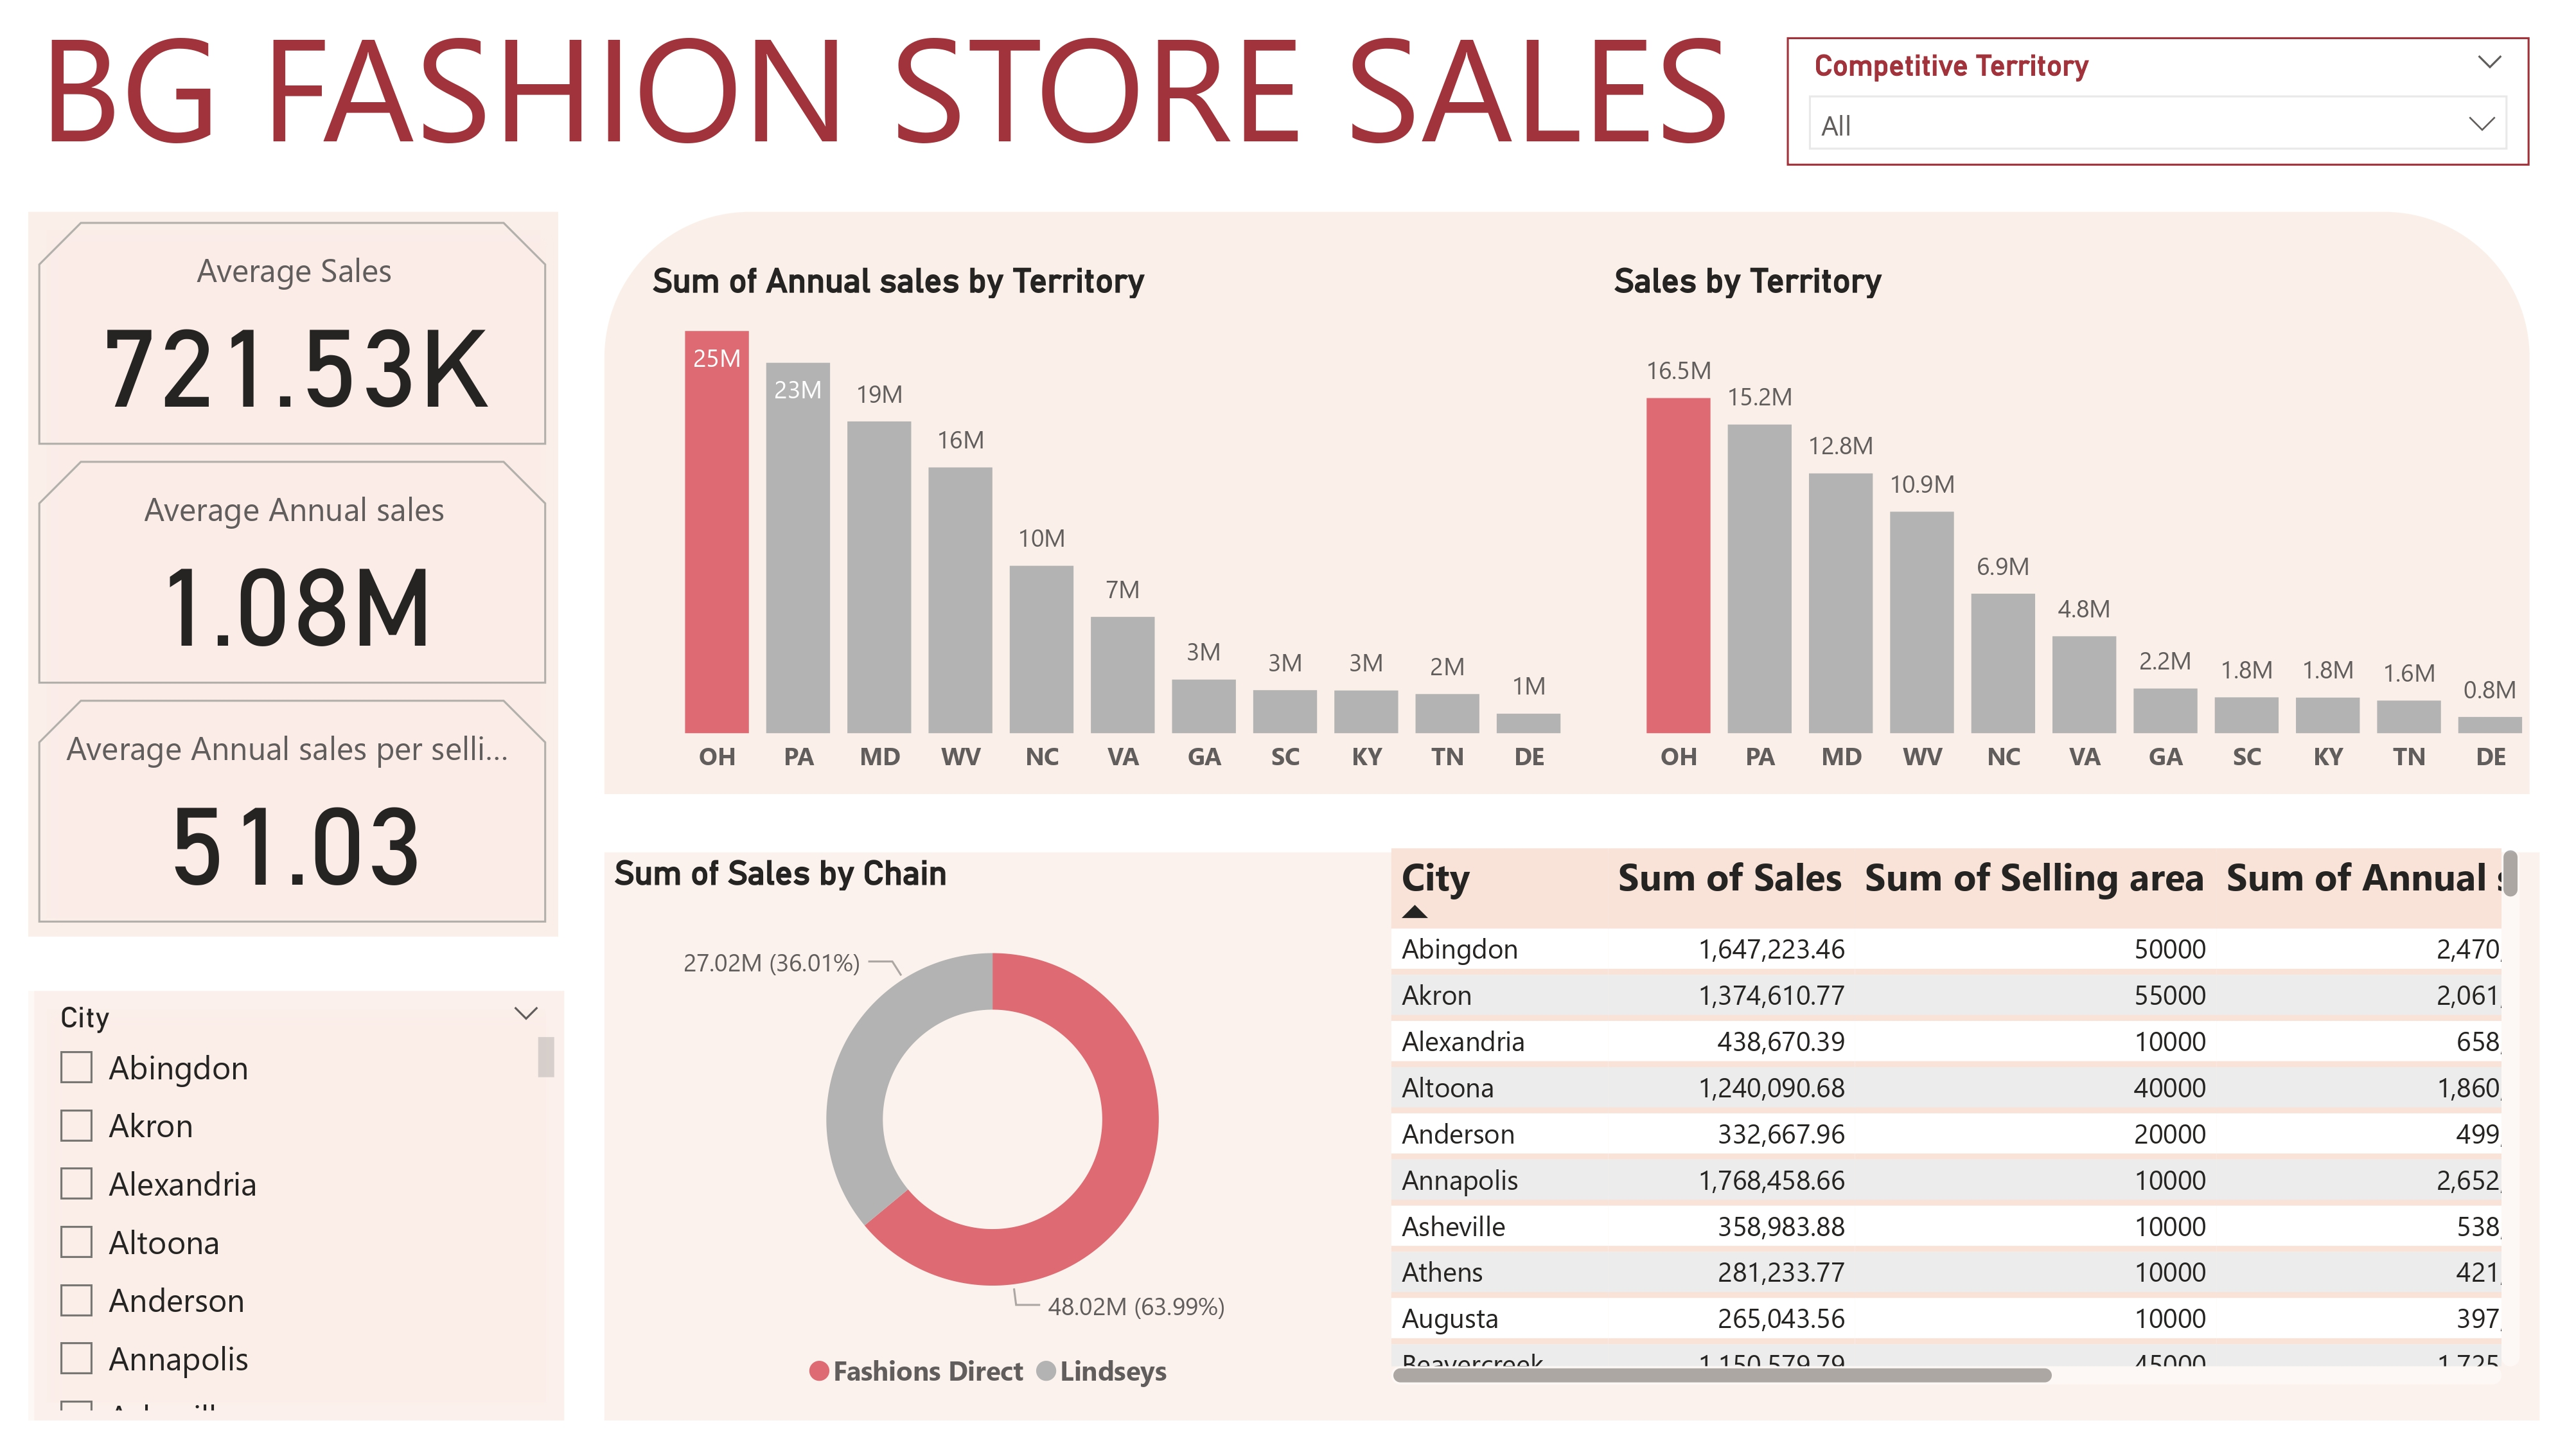

Layout of this report page (visuals, bound fields, positions):
{"tool":"powerbi","page":{"name":"Page 1","canvas":[1280,720],"ordinal":0},"visuals":[{"type":"shape","box":[16.2,506.4,267,213.6],"z":0},{"type":"shape","box":[302.6,118.1,959.5,289.6],"z":1000},{"type":"shape","box":[302.6,436.9,964.3,283.1],"z":2000},{"type":"shape","box":[16.2,118.1,263.7,360.8],"z":3000},{"type":"columnChart","title":"Sales by Territory","fields":{"Category":["Names.Territory"],"Y":["Sum(Names.Sales)"]},"box":[800.9,142.4,478.9,265.3],"z":4000},{"type":"textbox","box":[16.2,0,862.4,106.8],"z":5000},{"type":"cardVisual","fields":{"Data":["Avg(Table 1.Sales)","Avg(Table 1.Annual sales)","Avg(Table 1.Annual sales per selling area)"]},"box":[16.2,118.1,263.7,360.8],"z":6000},{"type":"columnChart","fields":{"Y":["Sum(Table 1.Annual sales)"],"Category":["Table 1.Territory"]},"box":[322,142.4,478.9,265.3],"z":7000},{"type":"tableEx","fields":{"Values":["Table 1.City","Sum(Table 1.Sales)","Sum(Table 1.Selling area)","Sum(Table 1.Annual sales)","Sum(Table 1.Annual sales per selling area)"]},"box":[689.3,430.4,572.8,276.7],"z":8000},{"type":"donutChart","fields":{"Category":["Table 1.Chain"],"Y":["Sum(Table 1.Sales)"]},"box":[302.6,436.9,386.7,276.7],"z":9000},{"type":"slicer","fields":{"Values":["Table 1.City"]},"box":[19.4,506.4,263.7,213.6],"z":10000},{"type":"slicer","fields":{"Values":["Table 1.Competitive Territory"]},"box":[891.5,30.7,370.5,64.7],"z":10001}]}

Visuals, with their boxes in screenshot pixels (x1, y1, x2, y2), scaled from the page's 1280x720 canvas onto the 2576x1452 screenshot:
shape: (x1=33, y1=1022, x2=570, y2=1451)
shape: (x1=609, y1=238, x2=2540, y2=822)
shape: (x1=609, y1=881, x2=2550, y2=1451)
shape: (x1=33, y1=238, x2=563, y2=966)
"Sales by Territory" columnChart: (x1=1612, y1=287, x2=2575, y2=822)
textbox: (x1=33, y1=0, x2=1768, y2=215)
cardVisual - Avg(Table 1.Sales) x Avg(Table 1.Annual sales): (x1=33, y1=238, x2=563, y2=966)
columnChart - Sum(Table 1.Annual sales) x Table 1.Territory: (x1=648, y1=287, x2=1612, y2=822)
tableEx - Table 1.City x Sum(Table 1.Sales): (x1=1387, y1=868, x2=2540, y2=1426)
donutChart - Table 1.Chain x Sum(Table 1.Sales): (x1=609, y1=881, x2=1387, y2=1439)
slicer - Table 1.City: (x1=39, y1=1022, x2=570, y2=1451)
slicer - Table 1.Competitive Territory: (x1=1794, y1=62, x2=2540, y2=192)
